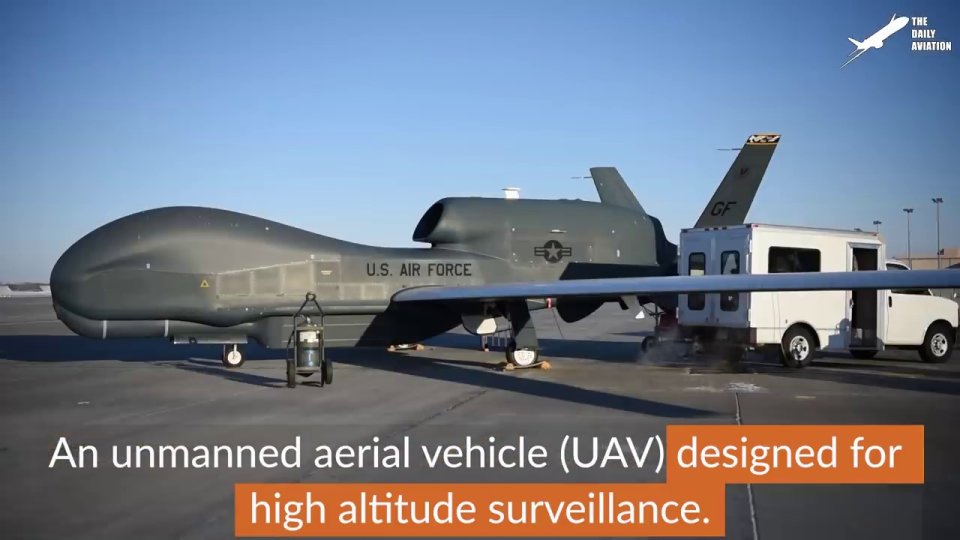military drone: (50, 133, 960, 387)
